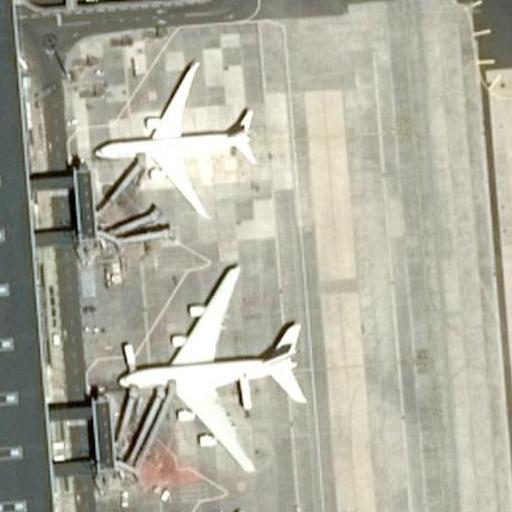Aircraft: (108, 258, 321, 470), (87, 62, 266, 218)
